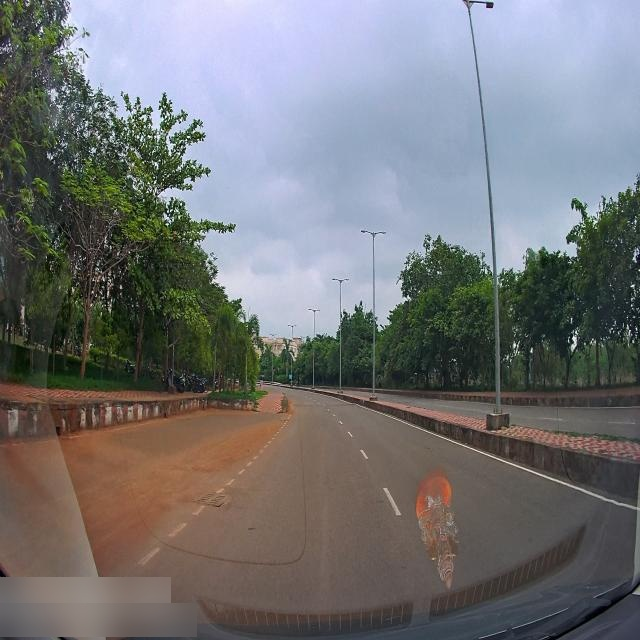pothole: (244, 520, 258, 535)
